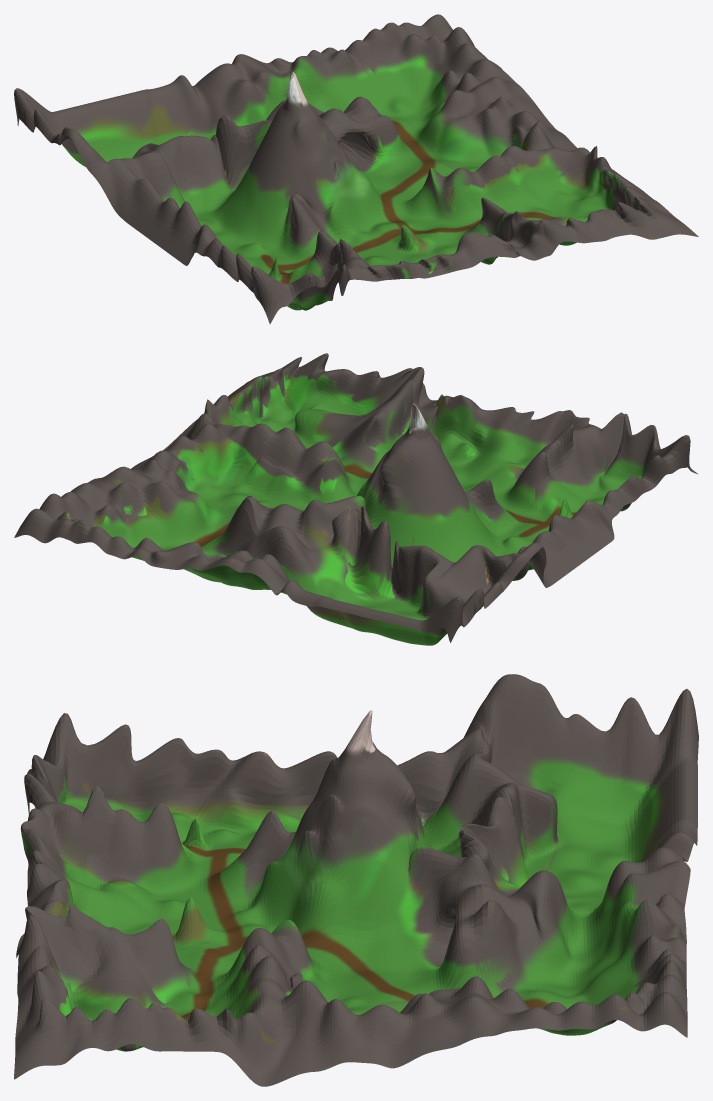
File: map3.fbx
3 views of the same model, one above another, from view 1: azimuth 30°, elevation 25°; view 2: azimuth 150°, elevation 25°; view 3: azimuth 270°, elevation 25° (orthographic). The views are drawn at different scales.
Parts seen in each view (by area): view 1: Grid; view 2: Grid; view 3: Grid.
Boxes of the visible parts, x1,y1,x2,y2 form: Grid: (14,14,698,323); Grid: (14,353,698,645); Grid: (14,674,698,1086).
Size of the model in its own units: 20747 by 6383 by 19988.
